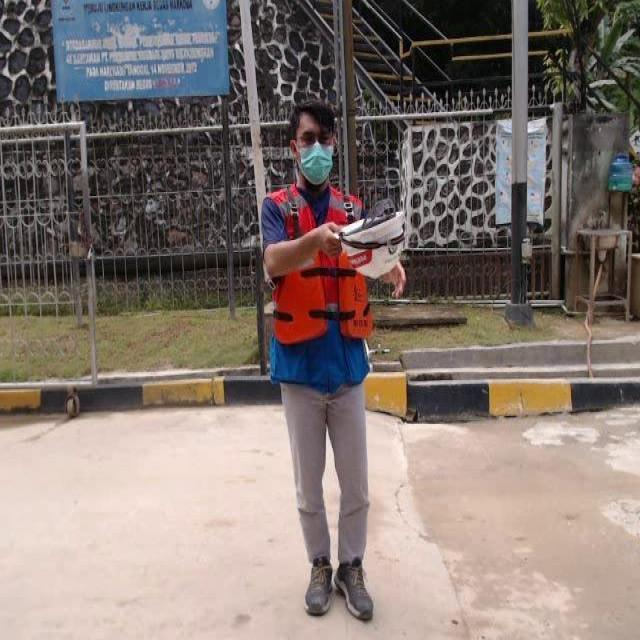vest: (273, 252, 374, 347)
